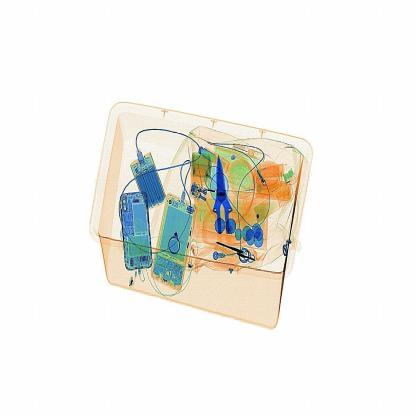gun: (206, 153, 245, 256)
